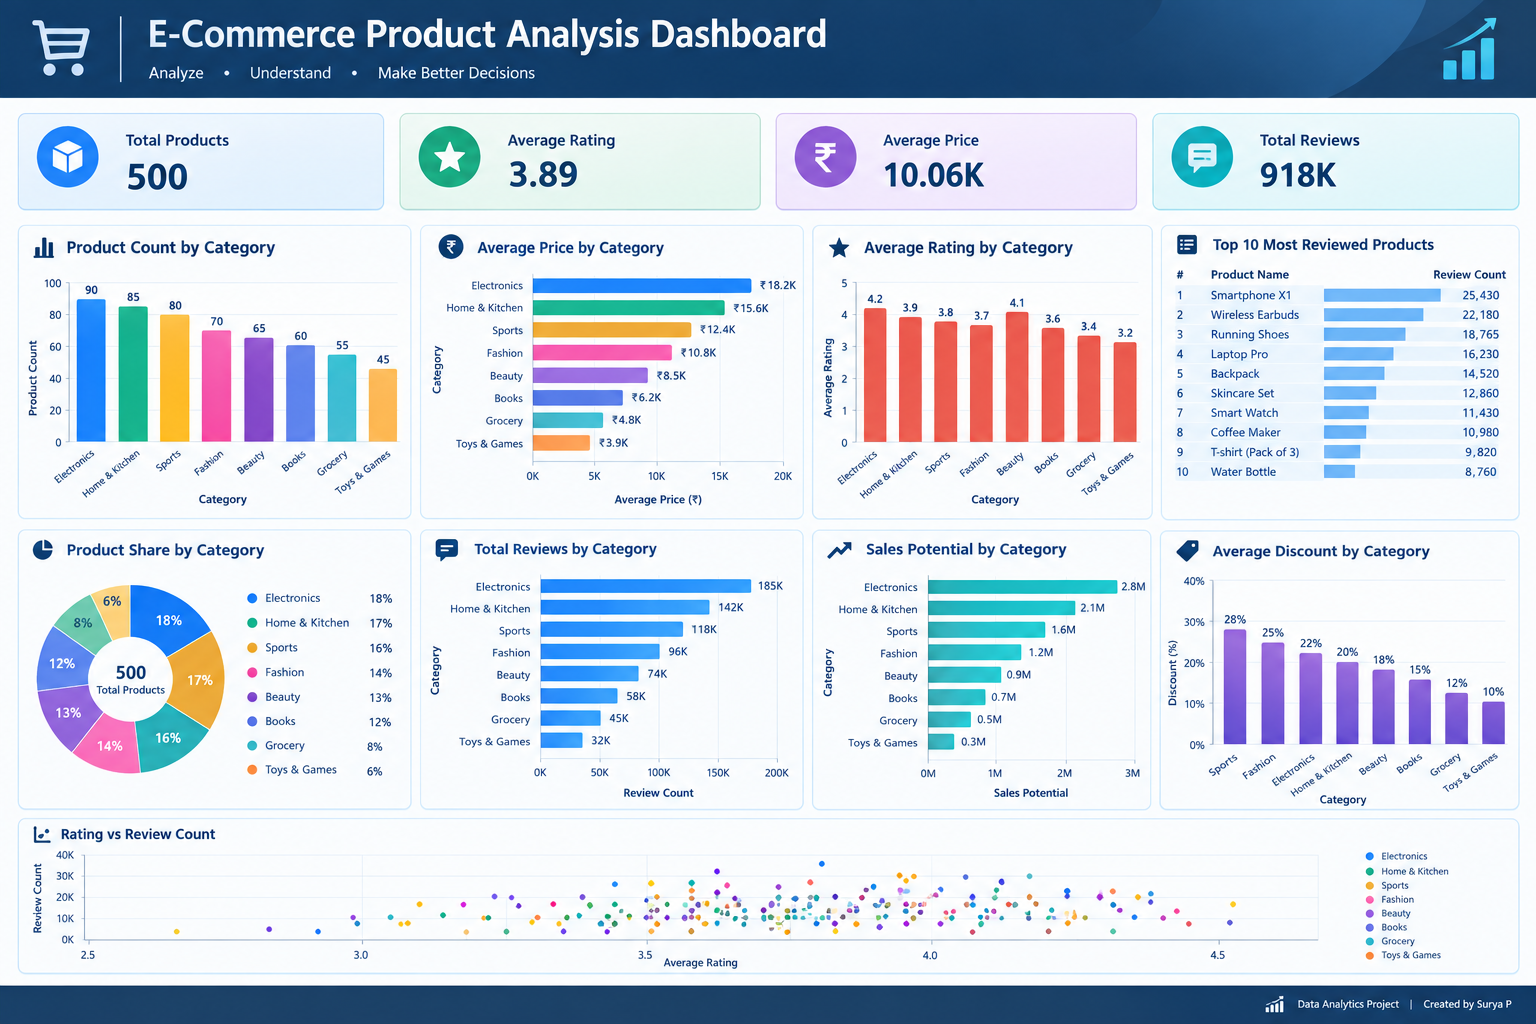

The page's visual inventory and layout, read from the dashboard file:
{"tool":"powerbi","page":{"name":"Page 1","canvas":[1600,900],"ordinal":0},"visuals":[{"type":"cardVisual","fields":{"Data":["Sheet1.prd"]},"box":[10.2,14.6,215,106.8],"z":0},{"type":"cardVisual","fields":{"Data":["Sheet1.Average Rating"]},"box":[247.3,14.6,215,106.8],"z":1000},{"type":"cardVisual","fields":{"Data":["Sheet1.Average Price"]},"box":[484.4,14.6,215,106.8],"z":2000},{"type":"cardVisual","fields":{"Data":["Sheet1.Total Reviews"]},"box":[721.5,14.6,215,106.8],"z":3000},{"type":"clusteredColumnChart","title":"Product Count by Category","fields":{"Category":["Sheet1.Category"],"Y":["CountNonNull(Sheet1.Product_ID)","Sheet1.prd"]},"box":[619.1,217,312.5,335],"z":4000},{"type":"clusteredBarChart","title":"Average Price by Category 💰","fields":{"Category":["Sheet1.Category"],"Y":["Sum(Sheet1.Price)","Sheet1.Average Price"]},"box":[10.6,217,295,335],"z":5000},{"type":"clusteredColumnChart","title":"Average Rating by Category ⭐","fields":{"Category":["Sheet1.Category"],"Y":["Sheet1.Average Rating","Sum(Sheet1.Rating)"]},"box":[309.9,217,305,335],"z":6000},{"type":"clusteredBarChart","title":"Total Reviews by Category 📊","fields":{"Category":["Sheet1.Category"],"Y":["Sum(Sheet1.Review_Count)","Sheet1.Total Reviews"]},"box":[10,573.3,311.7,310],"z":7000},{"type":"clusteredBarChart","title":"Sales Potential by Category 📈","fields":{"Category":["Sheet1.Category"],"Y":["Sum(Sheet1.Sales_Potential)","Sheet1.sales__sum_potential"]},"box":[326.2,572.5,317.5,310],"z":8000},{"type":"clusteredColumnChart","title":"Average Discount by Category 🏷️","fields":{"Category":["Sheet1.Category"],"Y":["Sum(Sheet1.Discount_Percent)","Sheet1.disc"]},"box":[648.3,572.5,305,310],"z":9000},{"type":"barChart","title":"Top 10 Most Reviewed Products","fields":{"Category":["Sheet1.Product_Name"],"Y":["Sheet1.sum_review","Sum(Sheet1.Review_Count)"]},"box":[935.8,217.5,340,335],"z":10000},{"type":"clusteredColumnChart","title":"Average Rating by Category ⭐","fields":{"Category":["Sheet1.Category"],"Y":["Sheet1.Average Rating","Sum(Sheet1.Rating)"]},"box":[957.9,572.5,315,310],"z":11000},{"type":"donutChart","title":"Product Share by Category","fields":{"Category":["Sheet1.Category"],"Y":["CountNonNull(Sheet1.Product_ID)","Sheet1.prd"]},"box":[1280,217.5,302.5,335],"z":12000},{"type":"scatterChart","title":"Rating vs Review Count","fields":{"Series":["Sheet1.Category"],"X":["Sheet1.Rating"],"Y":["Sheet1.Review_Count"]},"box":[1277.5,572.5,305,310],"z":13000}]}

Visuals, with their boxes on the page's 1600x900 design canvas (x1, y1, x2, y2). These are canvas units, not pixel positions in the 1536x1024 screenshot, which may show the page scaled, cropped or inside an application window:
cardVisual - Sheet1.prd: <bbox>10, 15, 225, 121</bbox>
cardVisual - Sheet1.Average Rating: <bbox>247, 15, 462, 121</bbox>
cardVisual - Sheet1.Average Price: <bbox>484, 15, 699, 121</bbox>
cardVisual - Sheet1.Total Reviews: <bbox>722, 15, 936, 121</bbox>
"Product Count by Category" clusteredColumnChart: <bbox>619, 217, 932, 552</bbox>
"Average Price by Category 💰" clusteredBarChart: <bbox>11, 217, 306, 552</bbox>
"Average Rating by Category ⭐" clusteredColumnChart: <bbox>310, 217, 615, 552</bbox>
"Total Reviews by Category 📊" clusteredBarChart: <bbox>10, 573, 322, 883</bbox>
"Sales Potential by Category 📈" clusteredBarChart: <bbox>326, 572, 644, 882</bbox>
"Average Discount by Category 🏷️" clusteredColumnChart: <bbox>648, 572, 953, 882</bbox>
"Top 10 Most Reviewed Products" barChart: <bbox>936, 218, 1276, 552</bbox>
"Average Rating by Category ⭐" clusteredColumnChart: <bbox>958, 572, 1273, 882</bbox>
"Product Share by Category" donutChart: <bbox>1280, 218, 1582, 552</bbox>
"Rating vs Review Count" scatterChart: <bbox>1278, 572, 1582, 882</bbox>
